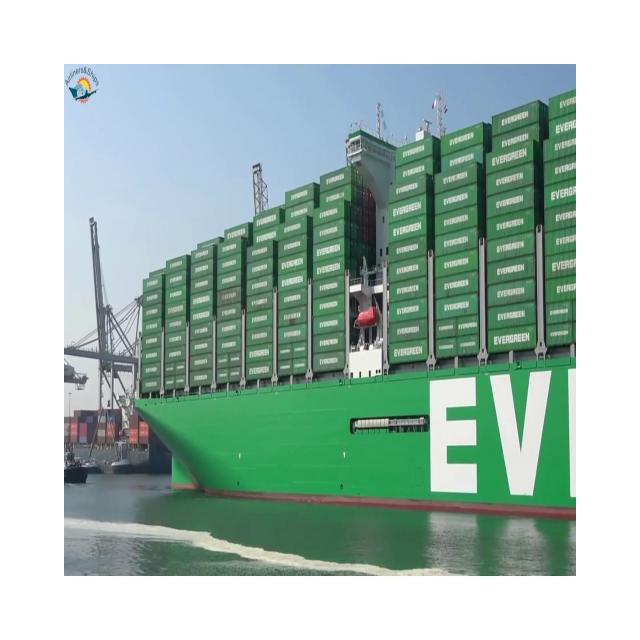OCR: (416, 365, 578, 517)
